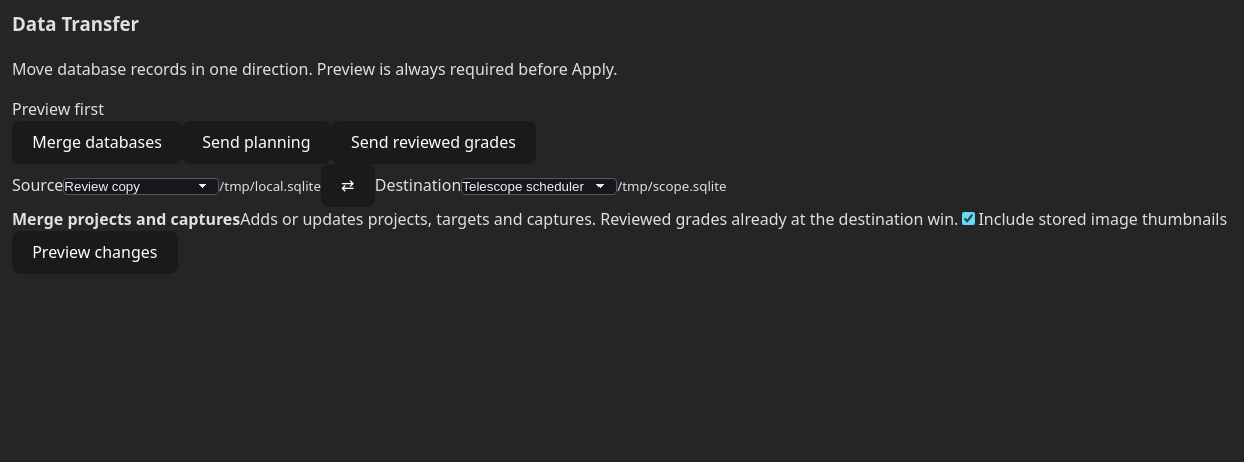
Test: SchedulerSyncControls › previews reviewed grades before offering a grade push
Click the button "Send reviewed grades" at [433, 142], box [331,120,536,164]
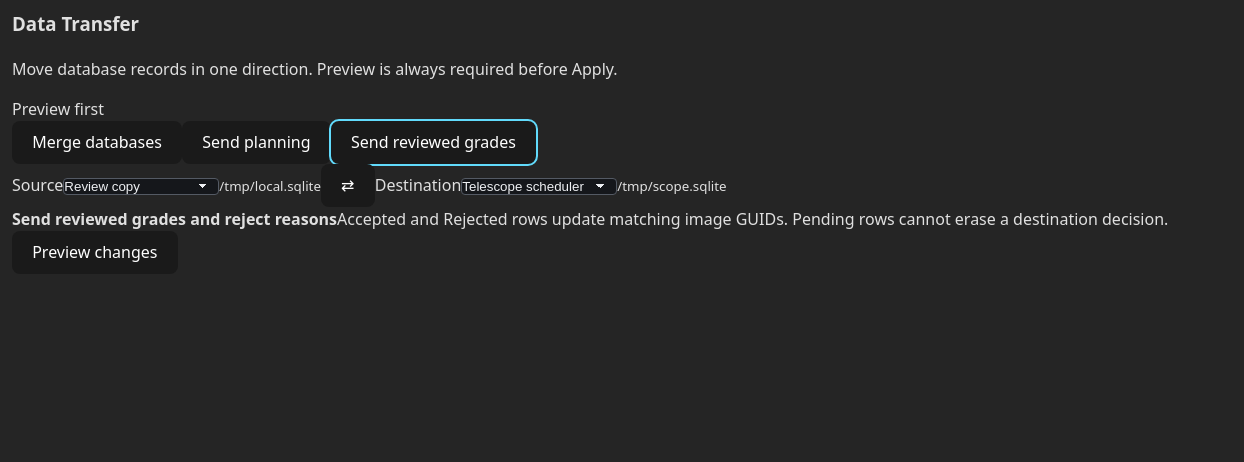
Click the button "Preview changes" at [95, 252], box [12,231,178,274]
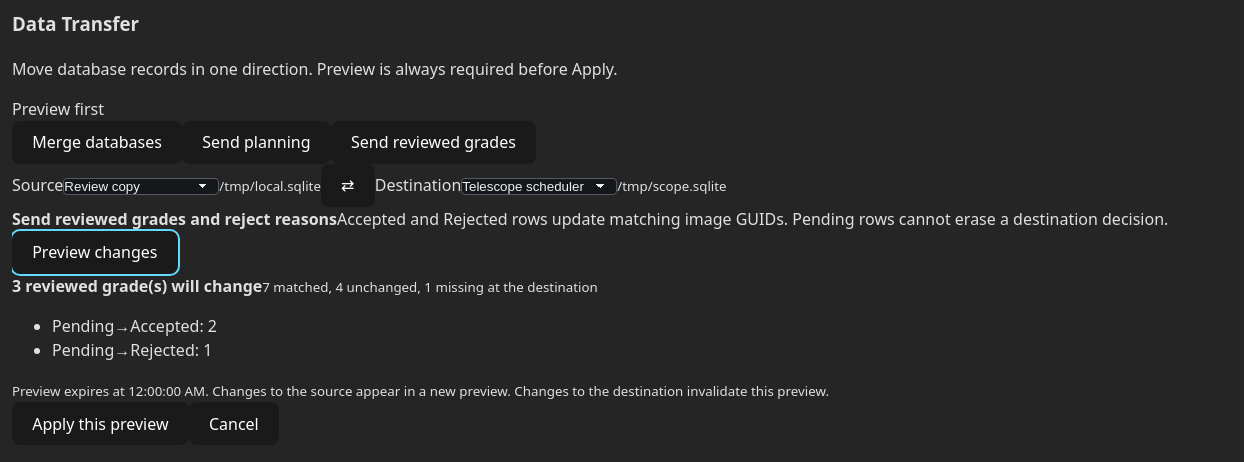
expect the text "3 reviewed grade(s) will change" is shown: met, box [12,275,262,297]
expect the list item "Pending→Accepted: 2" is shown: met, box [52,315,217,337]
Click the button "Apply this preview" at [100, 424], box [12,402,189,445]
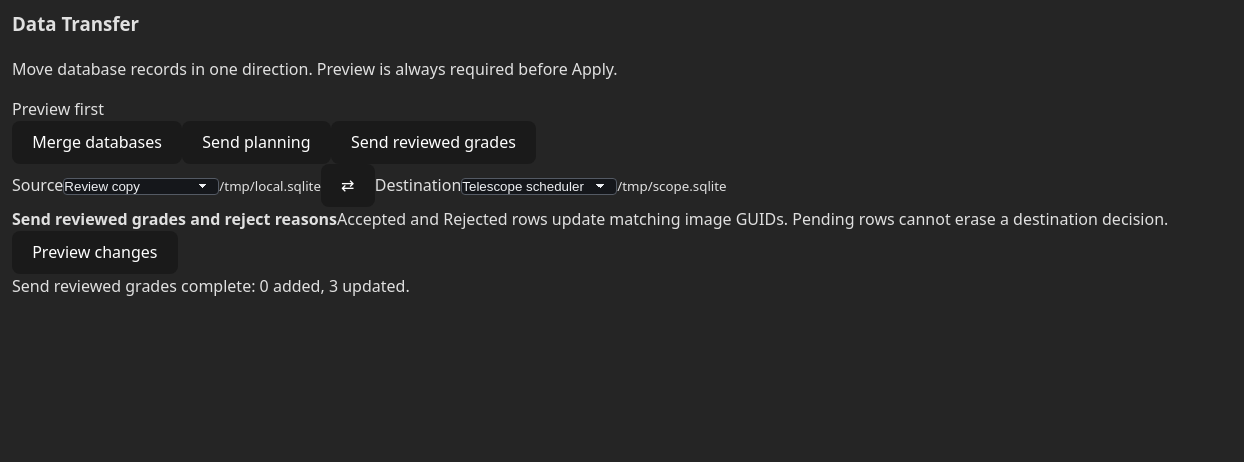
expect the text "Send reviewed grades complete: 0 added, 3 updated." is shown: met, box [12,275,410,297]
